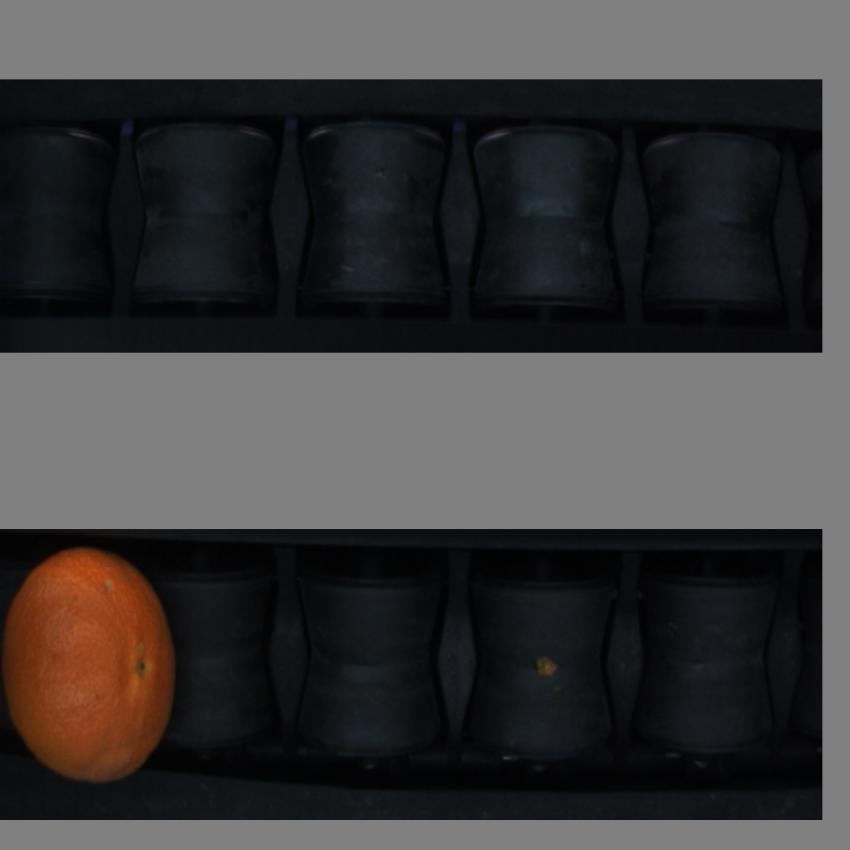Buen estado: (2, 540, 182, 795)
